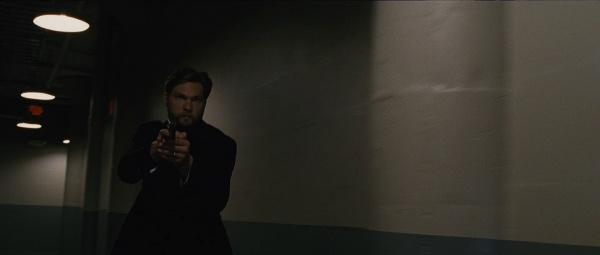Gun: (163, 119, 177, 138)
